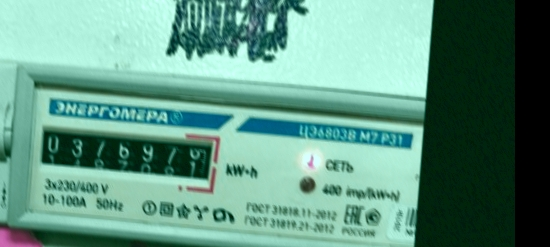0: (45, 132, 60, 153)
1: (186, 158, 198, 177)
3: (69, 136, 83, 157)
6: (116, 137, 131, 159)
7: (92, 136, 107, 158), (164, 142, 177, 165)
9: (140, 141, 153, 162)
screen: (30, 116, 224, 194)
